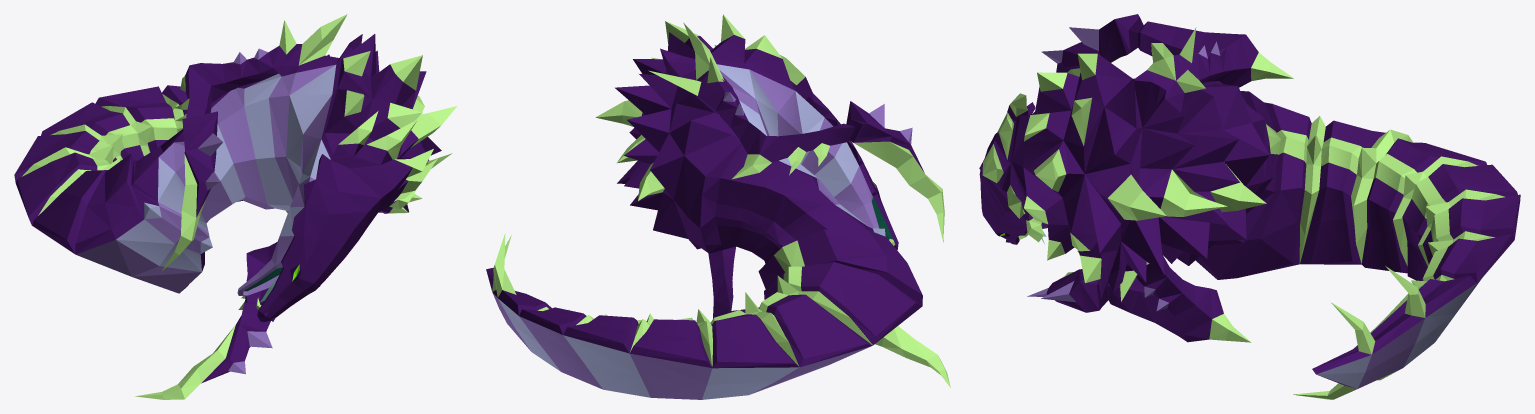
The model's file is Dead (17).obj.
3 renders of one model, left to right at view 1: azimuth 30°, elevation 25°; view 2: azimuth 150°, elevation 25°; view 3: azimuth 270°, elevation 25°, orthographic. The views are drawn at different scales.
Visible parts, largest first — view 1: Alien_Serpent; view 2: Alien_Serpent; view 3: Alien_Serpent.
Boxes of the visible parts, x1,y1,x2,y2 form: Alien_Serpent: (14, 14, 456, 399); Alien_Serpent: (486, 14, 950, 399); Alien_Serpent: (979, 14, 1520, 399).
Size of the model in its own units: 239 by 190 by 249.
1 material, 1 textured.
